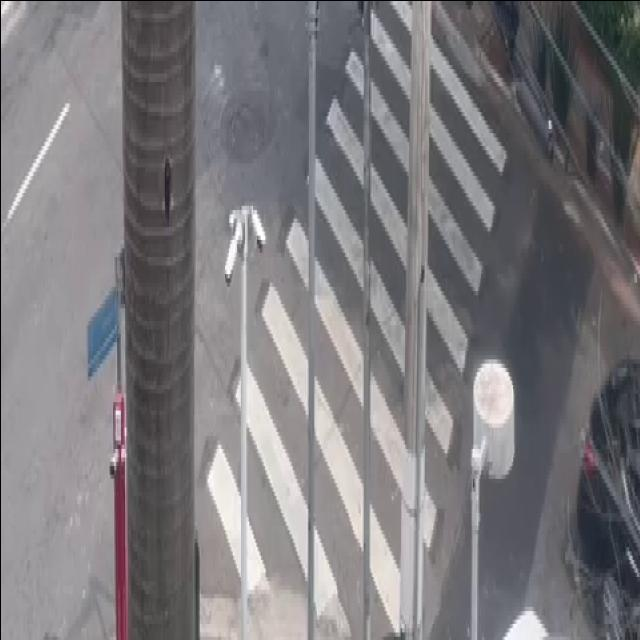car: (572, 354, 638, 612)
